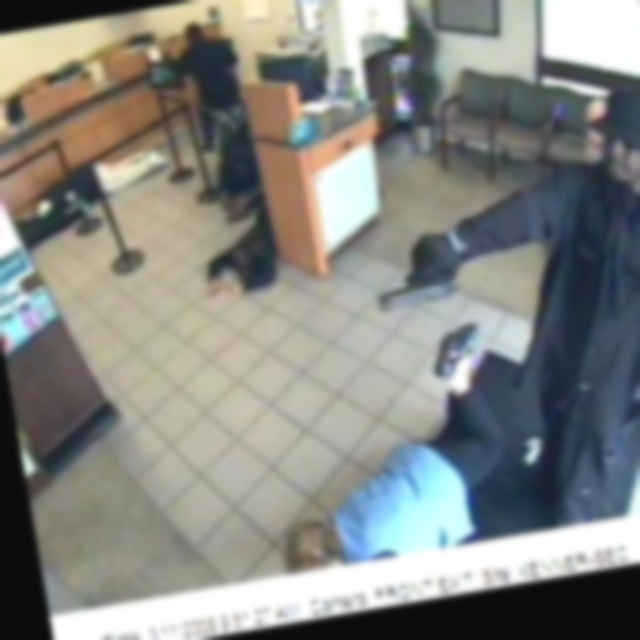gun: (357, 234, 481, 331)
